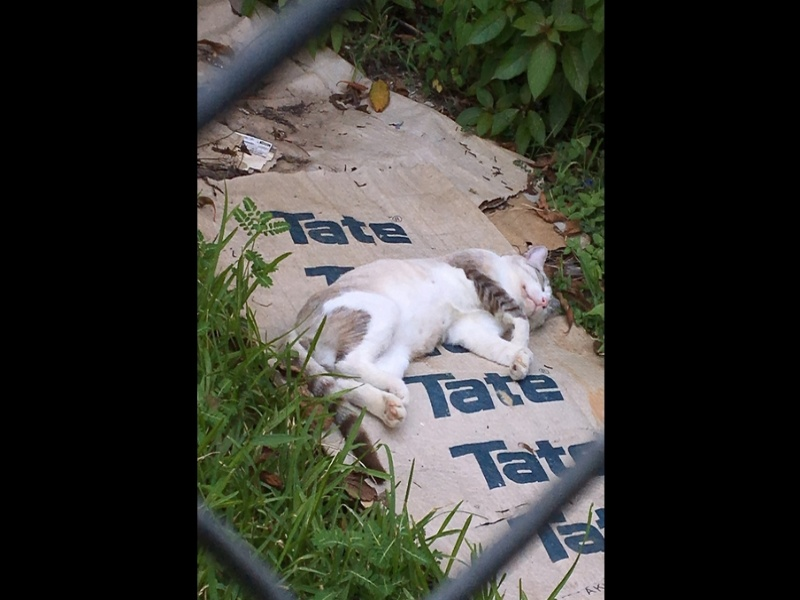cat: (289, 241, 559, 432)
